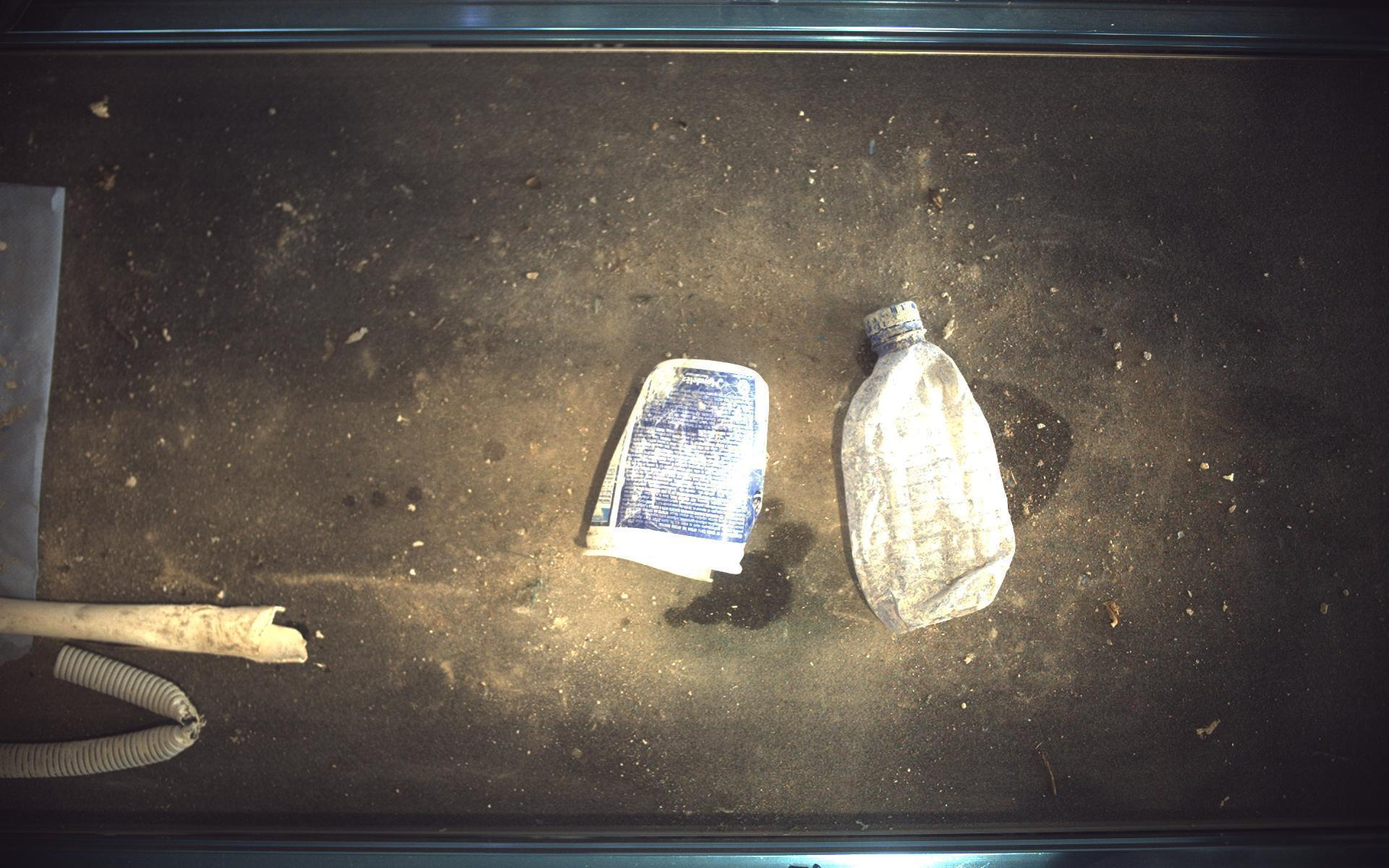general_w: (843, 300, 1017, 634), (586, 357, 770, 582)
pipes: (1, 645, 204, 780), (1, 599, 307, 664)
